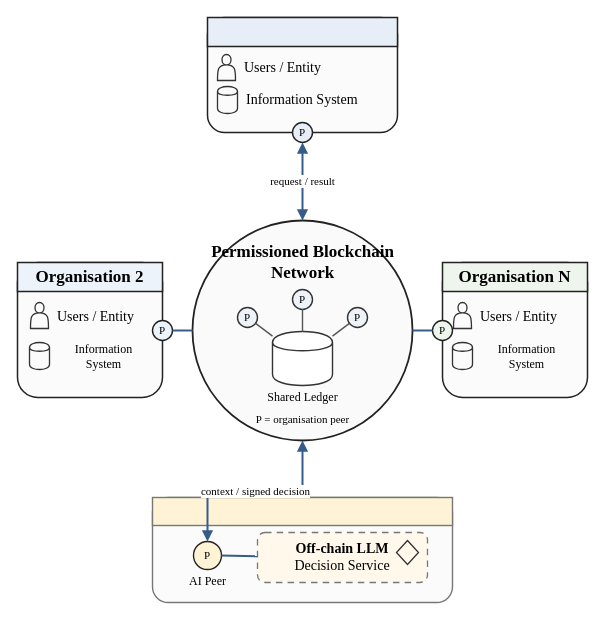
The diagram is 606 pixels wide and 621 high, and some of its shapes have lost their labels. Each missing label, with the centre of its shape:
AI: the point at 407,552
AI Organisation: the point at 302,511
Organisation 1: the point at 302,31
